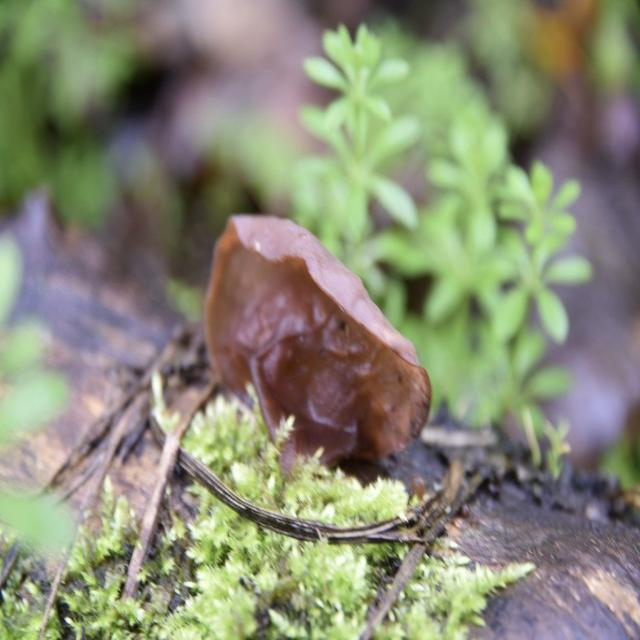Matang: (196, 202, 434, 478)
